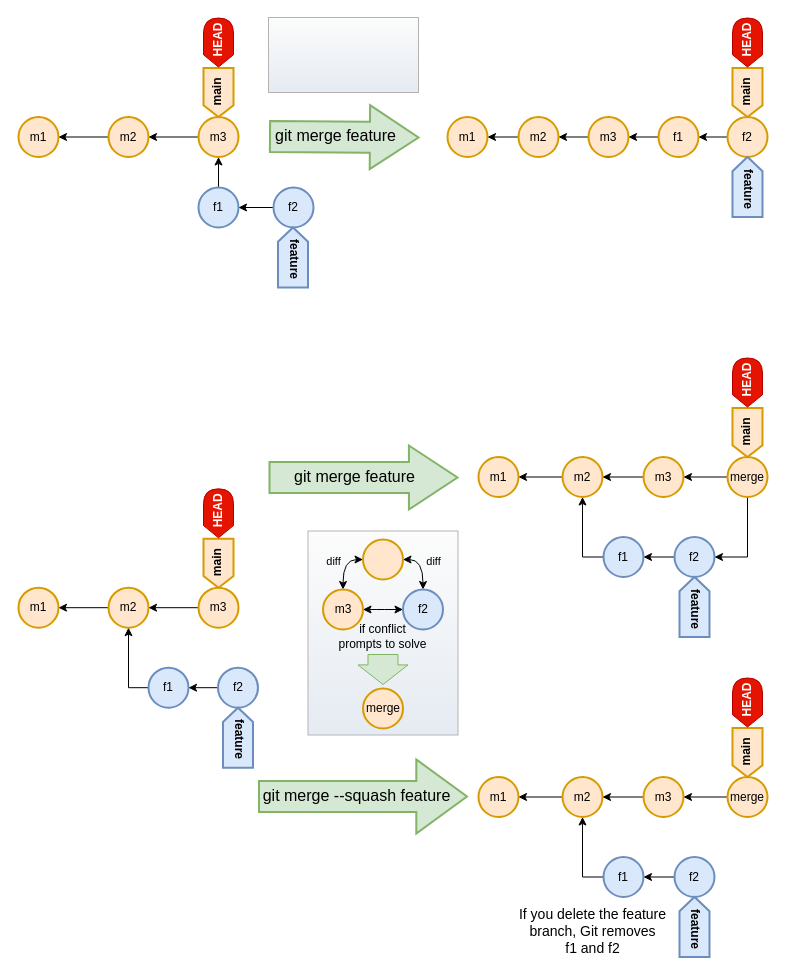
Some shapes in this 785 by 979 pixel diagram are drawn without their labels. Each missing label, with the centre of its shape:
Fast-forward merge (no merge commit created): point (343, 54)
m2 base: point (383, 559)
